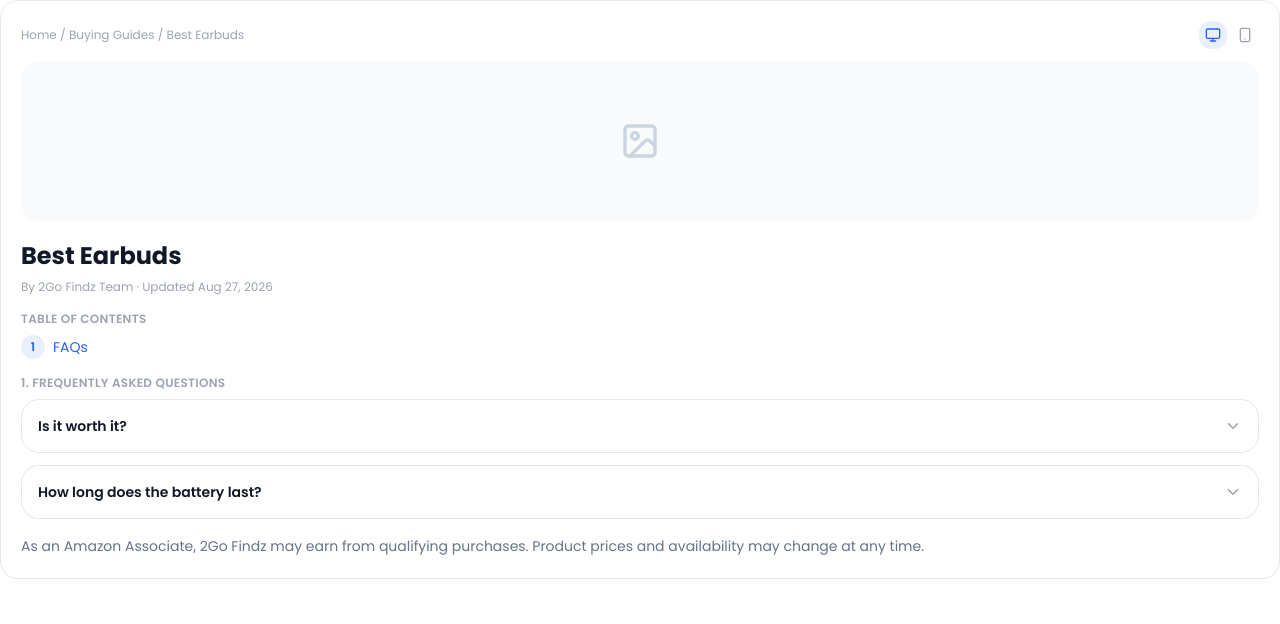
LivePreview › expands and collapses an FAQ answer independently via its own accordion button
The image size is (1280, 624).
Expected: the text "Yes, absolutely worth it for the price." is not shown
Click the button "Is it worth it?" at (82,426), box left=38, top=416, right=1242, bottom=436
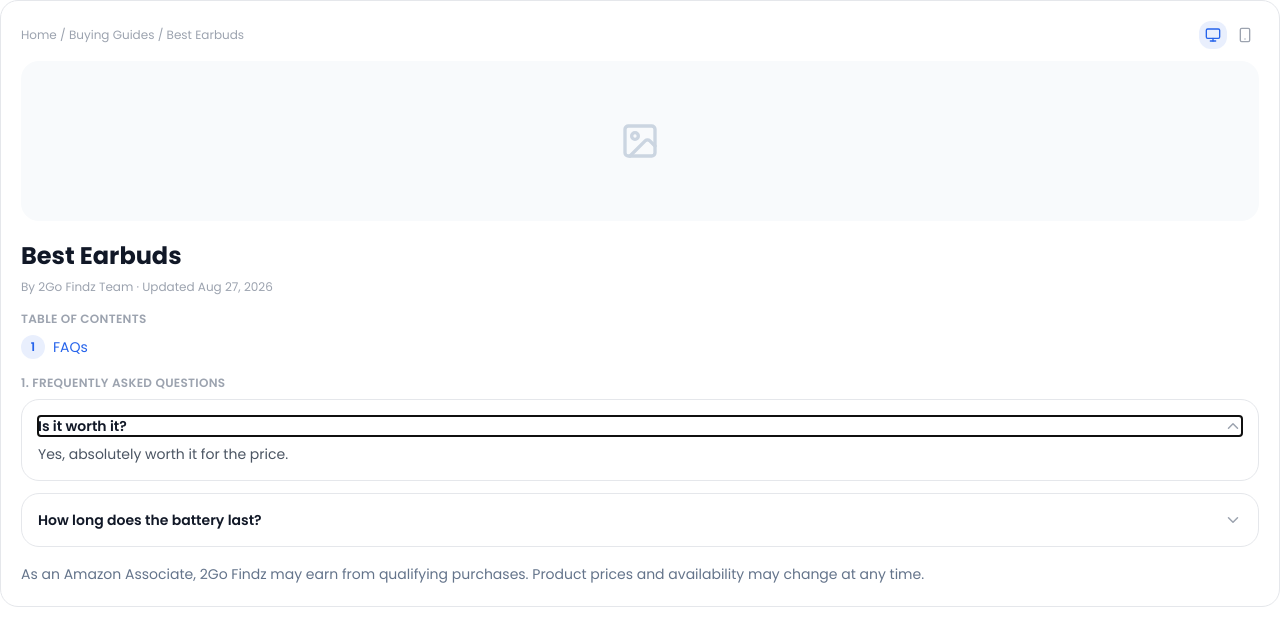
Now the button "Is it worth it?" is expanded, box left=38, top=416, right=1242, bottom=436
Now the text "Yes, absolutely worth it for the price." is shown, box left=38, top=444, right=288, bottom=464
